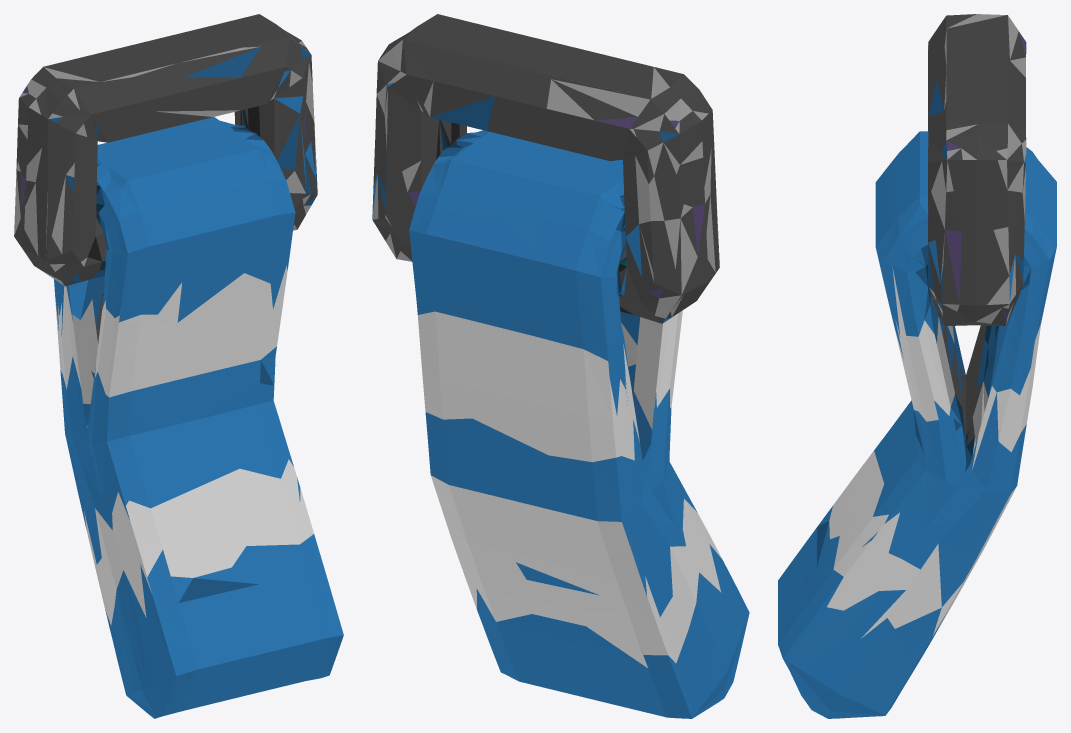
The model's file is milo_belt.glb.
3 views of the same model, side by side, from view 1: azimuth 30°, elevation 25°; view 2: azimuth 150°, elevation 25°; view 3: azimuth 270°, elevation 25° (orthographic). The views are drawn at different scales.
Parts seen in each view (by area): view 1: node_0; view 2: node_0; view 3: node_0.
Part boxes in pixels (bbox=[...]): node_0: bbox=[14, 14, 343, 718]; node_0: bbox=[372, 14, 749, 718]; node_0: bbox=[778, 14, 1056, 718].
Bounding box in the file's own units: 0.5011 × 0.9999 × 0.4153.
